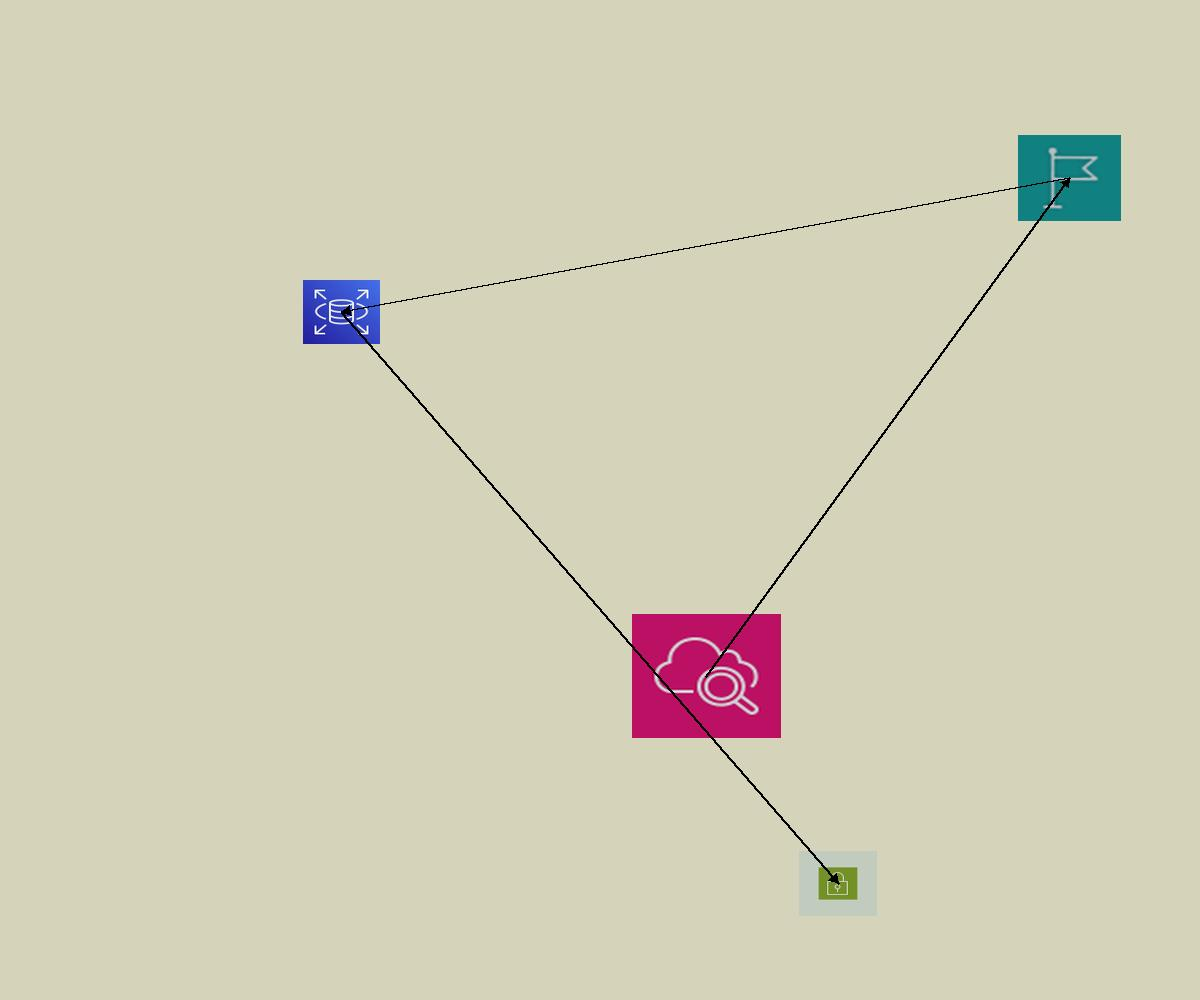AWS-CloudWatch: (632, 614, 781, 738)
AWS-Public-subnet: (799, 851, 877, 916)
AWS-RDS: (303, 280, 380, 344)
AWS-Region: (1018, 135, 1121, 221)
